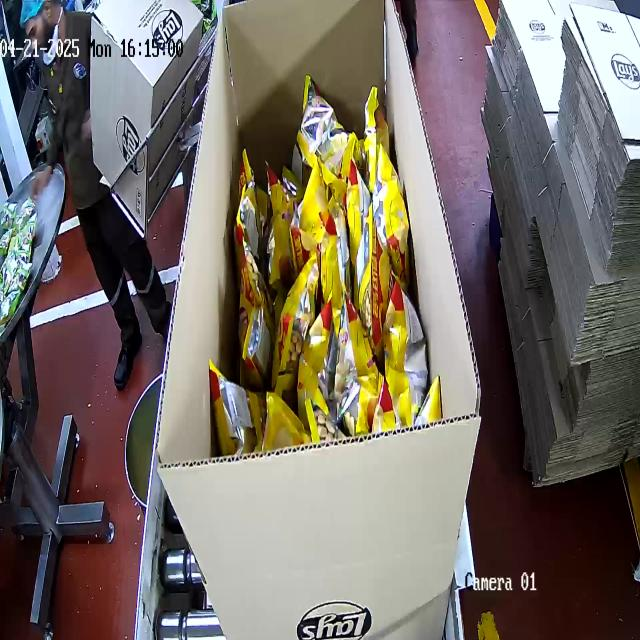SALTED: (227, 79, 414, 442)
